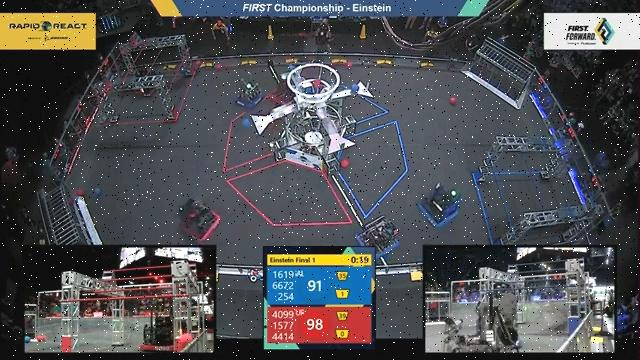Robot: (413, 175, 464, 229), (353, 208, 402, 259), (176, 195, 229, 242), (231, 65, 266, 109), (132, 61, 157, 99)
